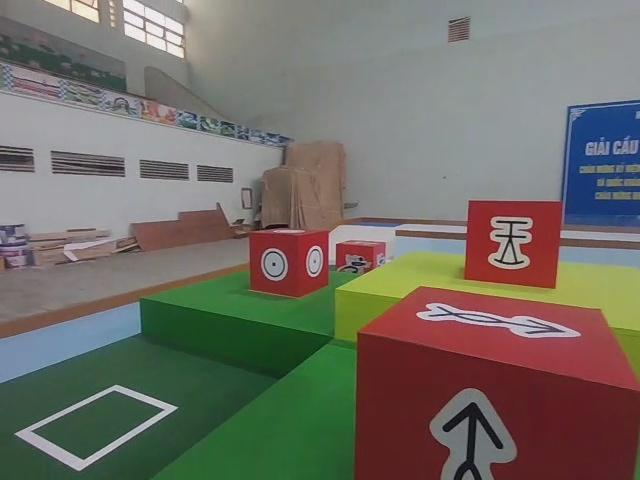R1: (336, 238, 386, 279)
R2 Real: (357, 285, 633, 480), (462, 199, 559, 291), (250, 229, 329, 297)
